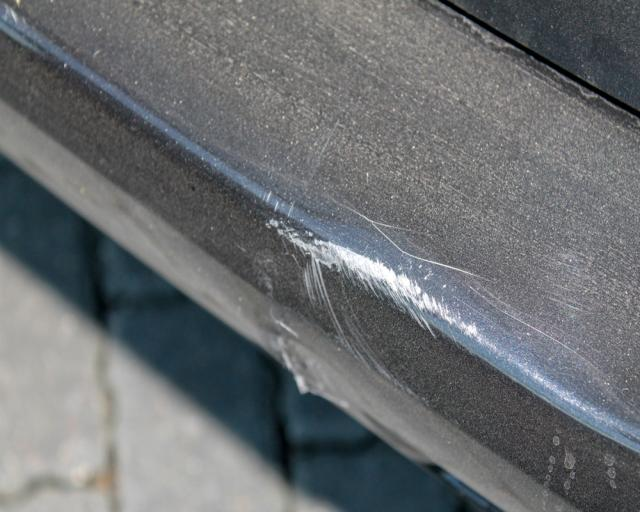scratch: (268, 209, 499, 403)
